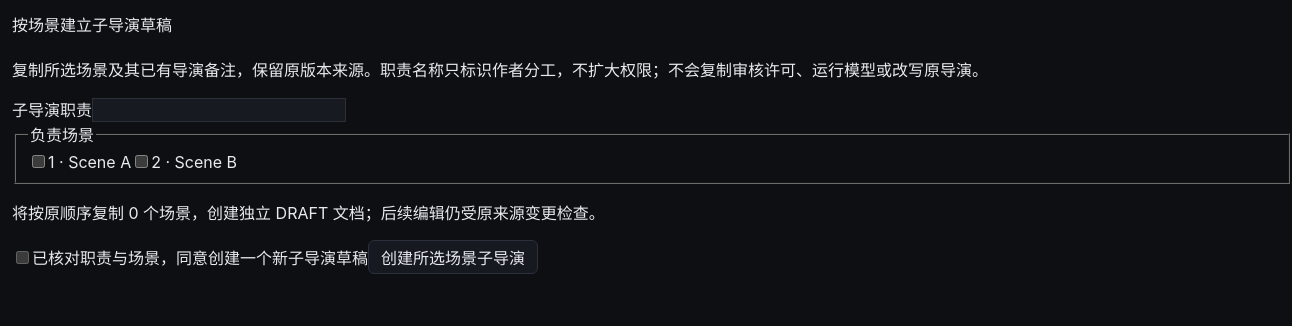
does not replay an uncertain create and preserves a pending intent
Type "Opening" into the field labelled "子导演职责" at {"x": 219, "y": 110}, box [92,98,346,122]
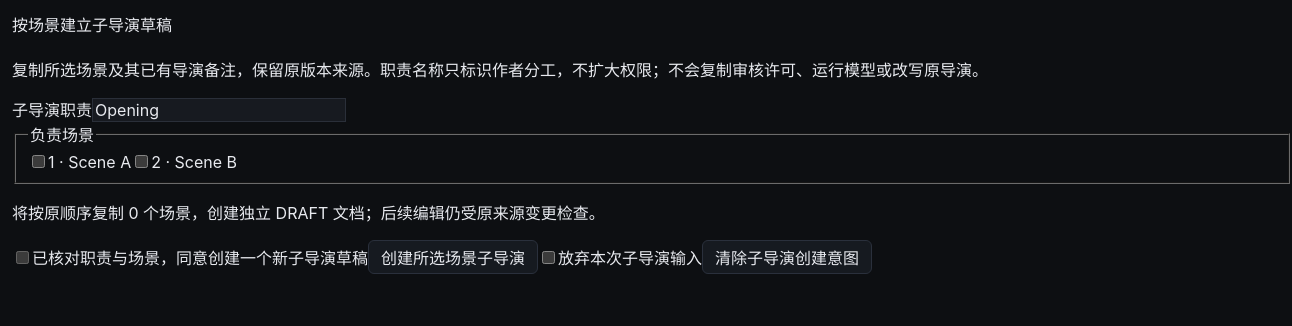
Click the checkbox labelled "1 · Scene A" at {"x": 38, "y": 161}, box [32,155,45,168]
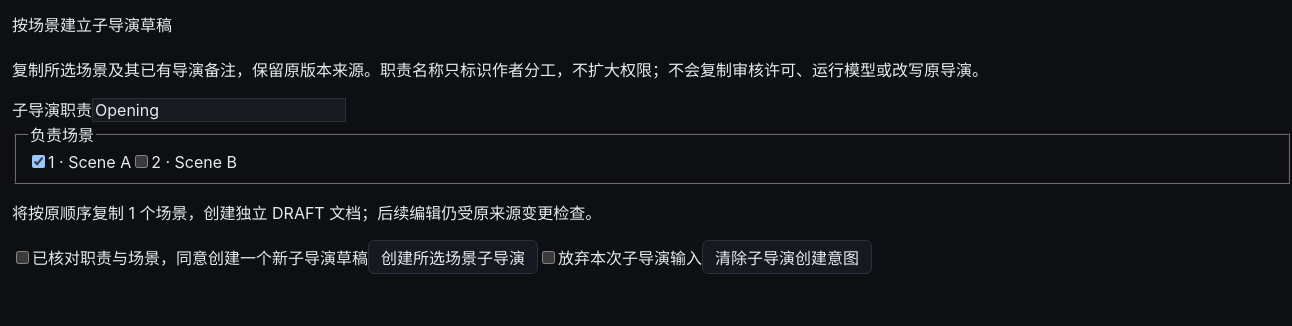
Click the checkbox labelled "已核对职责与场景，同意创建一个新子导演草稿" at {"x": 22, "y": 257}, box [16,251,29,264]
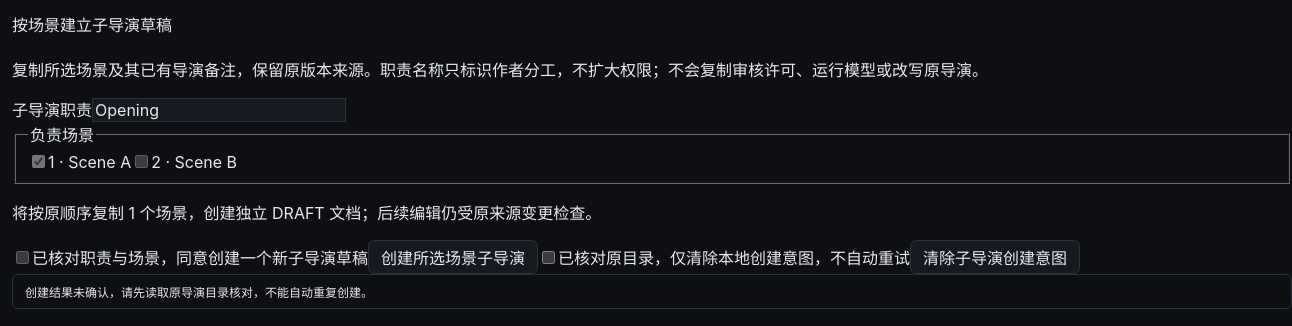
Check: the button "创建所选场景子导演" is disabled, box [368,240,538,274]
Check: the text "创建结果未确认，请先读取原导演目录核对，不能自动重复创建。" is shown, box [12,274,1291,309]
